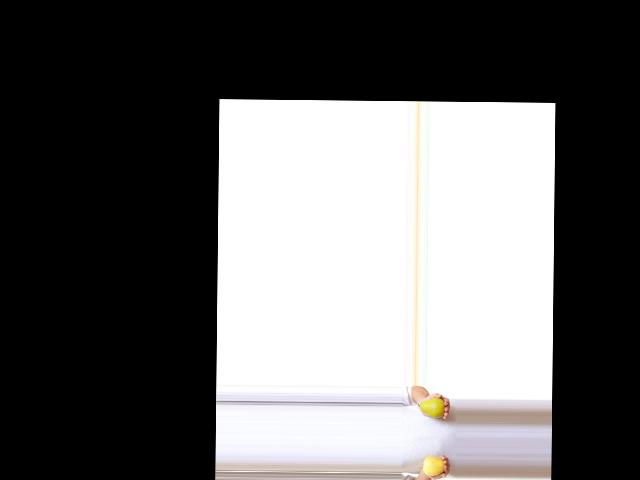apple: (422, 455, 446, 477)
